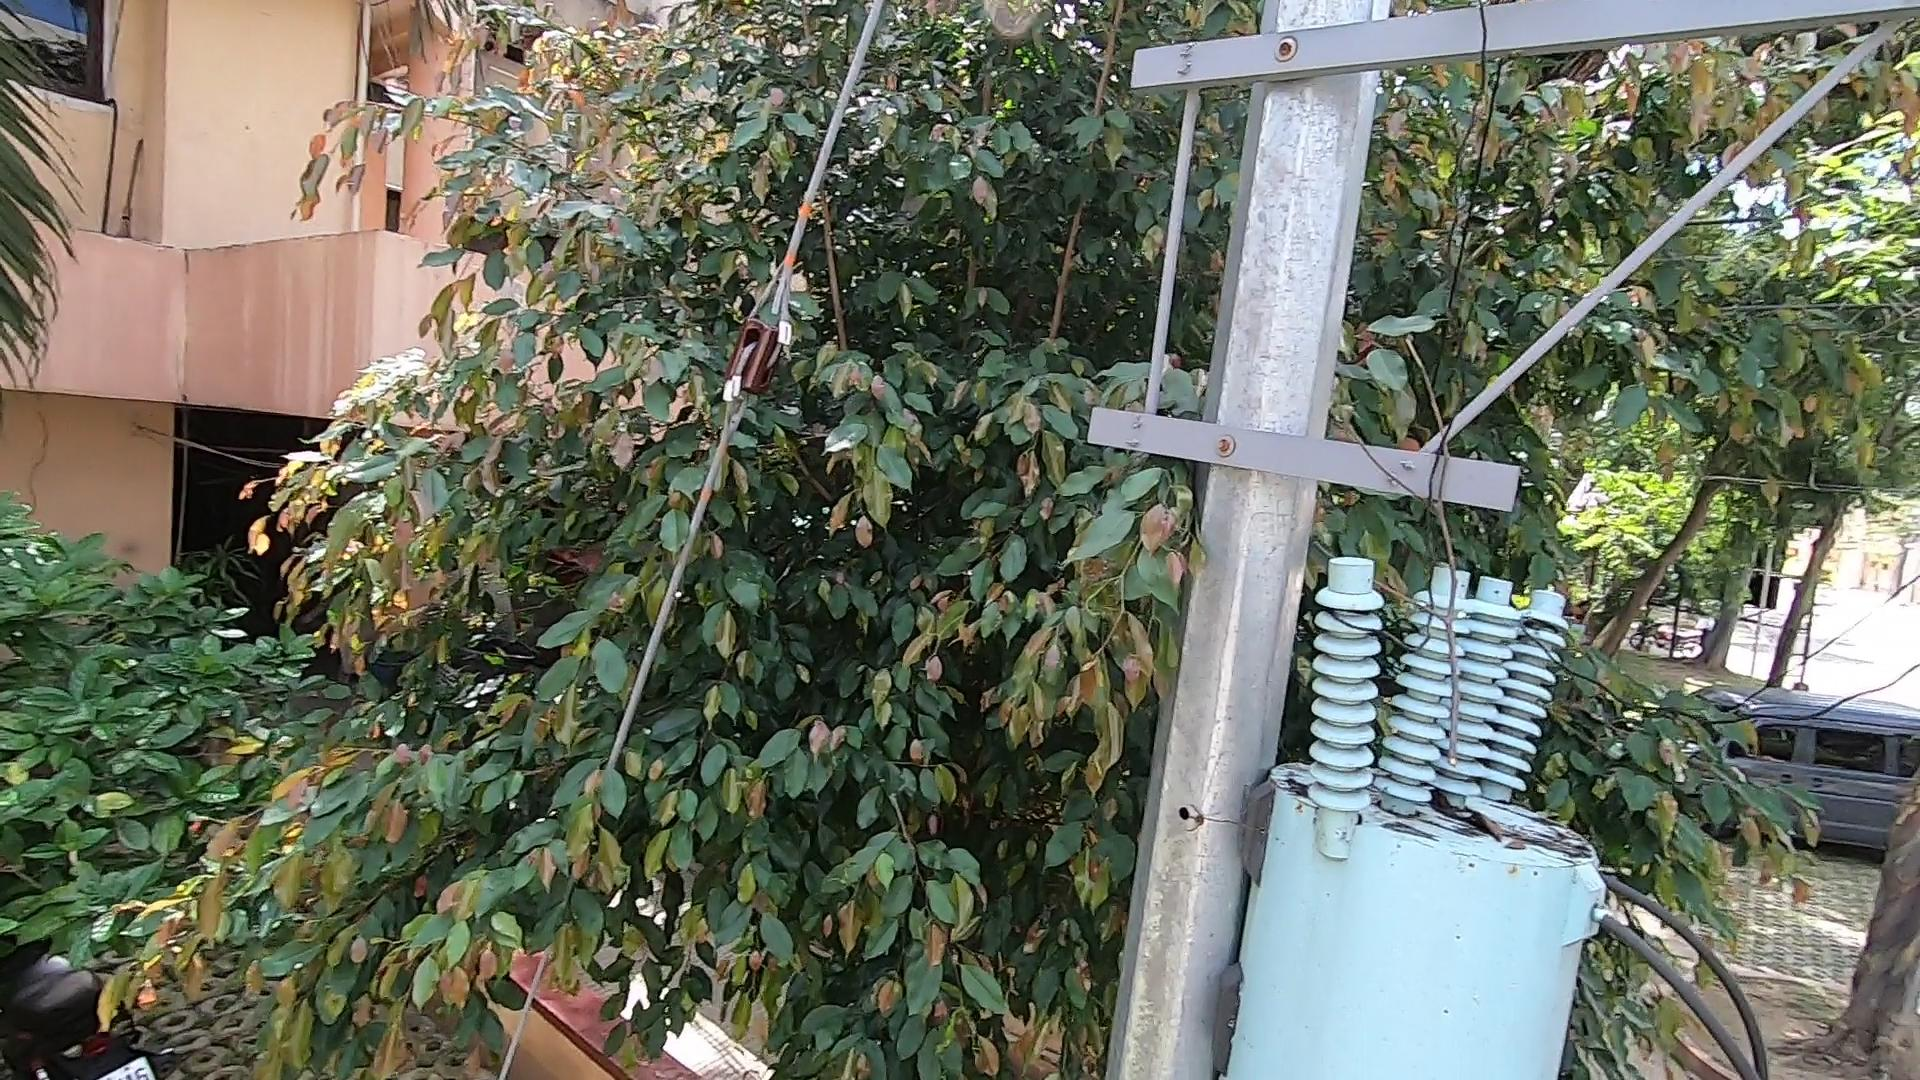leaf: (1422, 791, 1505, 844)
tree branch: (1335, 342, 1491, 766)
